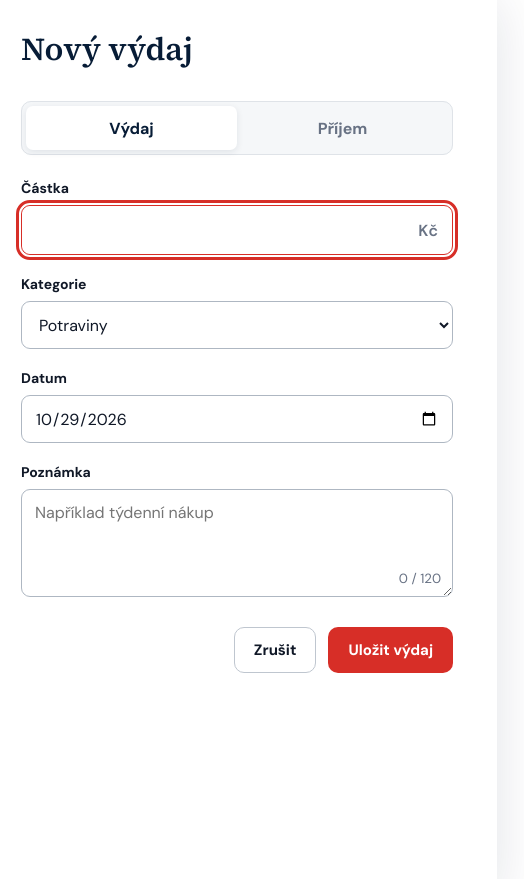
TransactionForm › preserves entered values and reports an offline write failure
This screenshot has width=524, height=879.
Type "850,50" into the field labelled "Částka" at (213, 230), box [22,206,404,254]
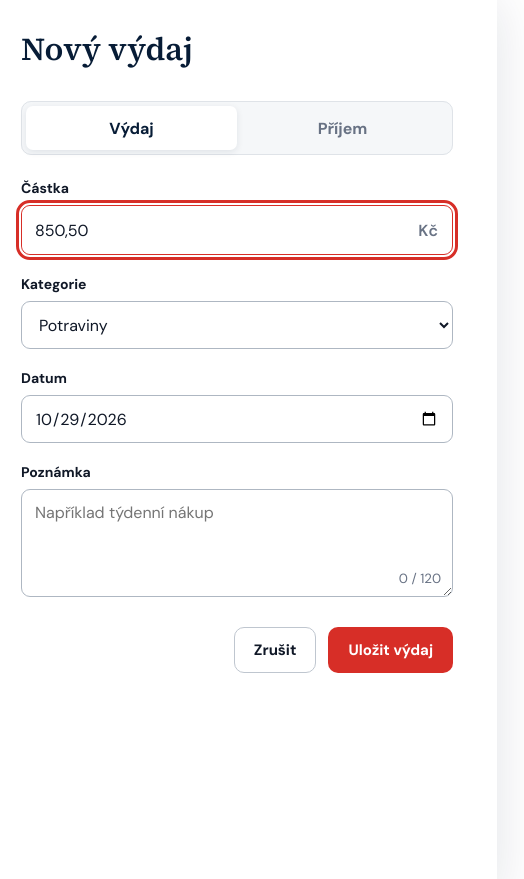
Click the button "Uložit výdaj" at (391, 650), box [328,627,453,673]
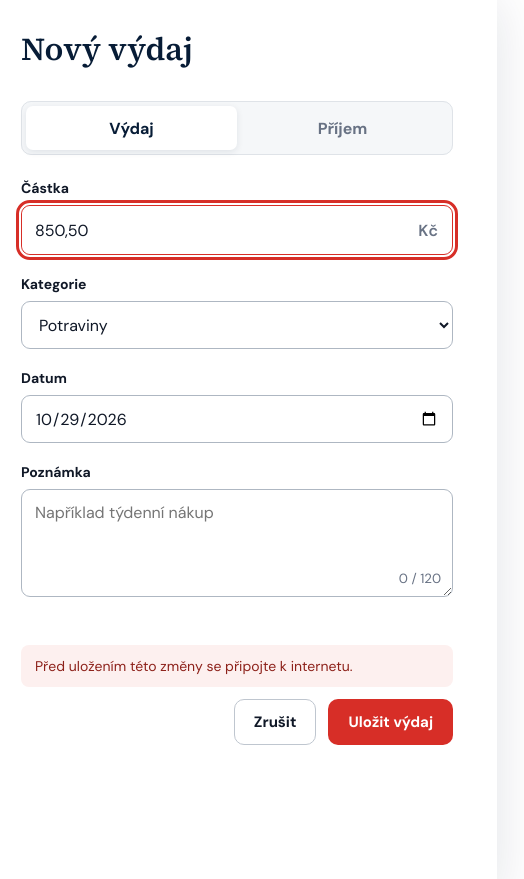
Check: the text "Před uložením této změny se připojte k internetu." is shown, box [21,645,453,687]
